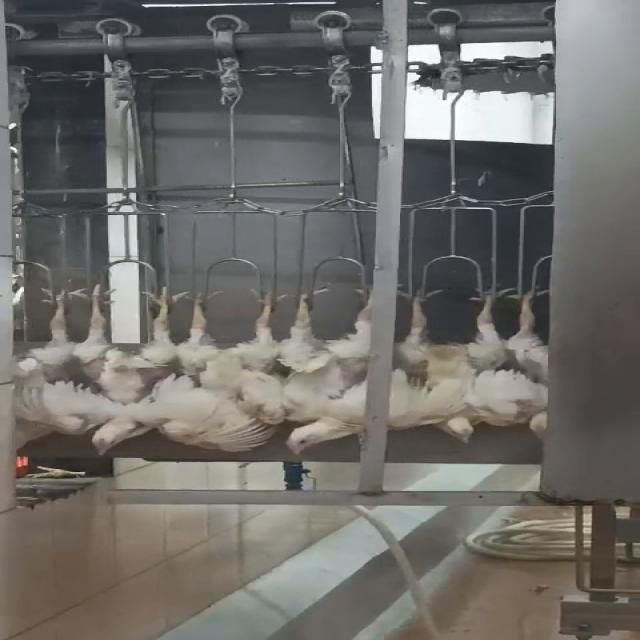chicken: (165, 288, 288, 456), (69, 290, 192, 458), (270, 282, 384, 458), (388, 286, 510, 449), (0, 285, 80, 455), (510, 280, 550, 442)
